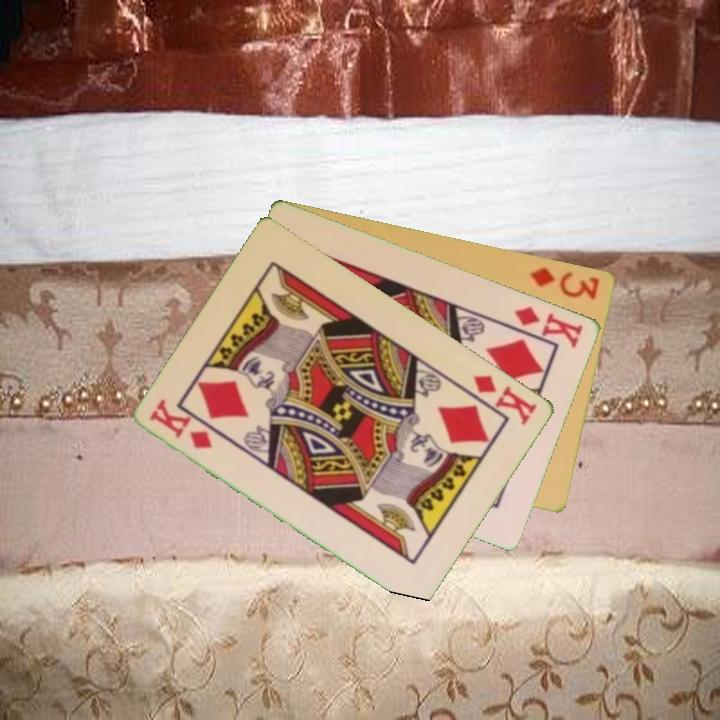3d: (527, 263, 603, 302)
Kd: (470, 371, 541, 429), (146, 396, 216, 452), (511, 302, 587, 351)
